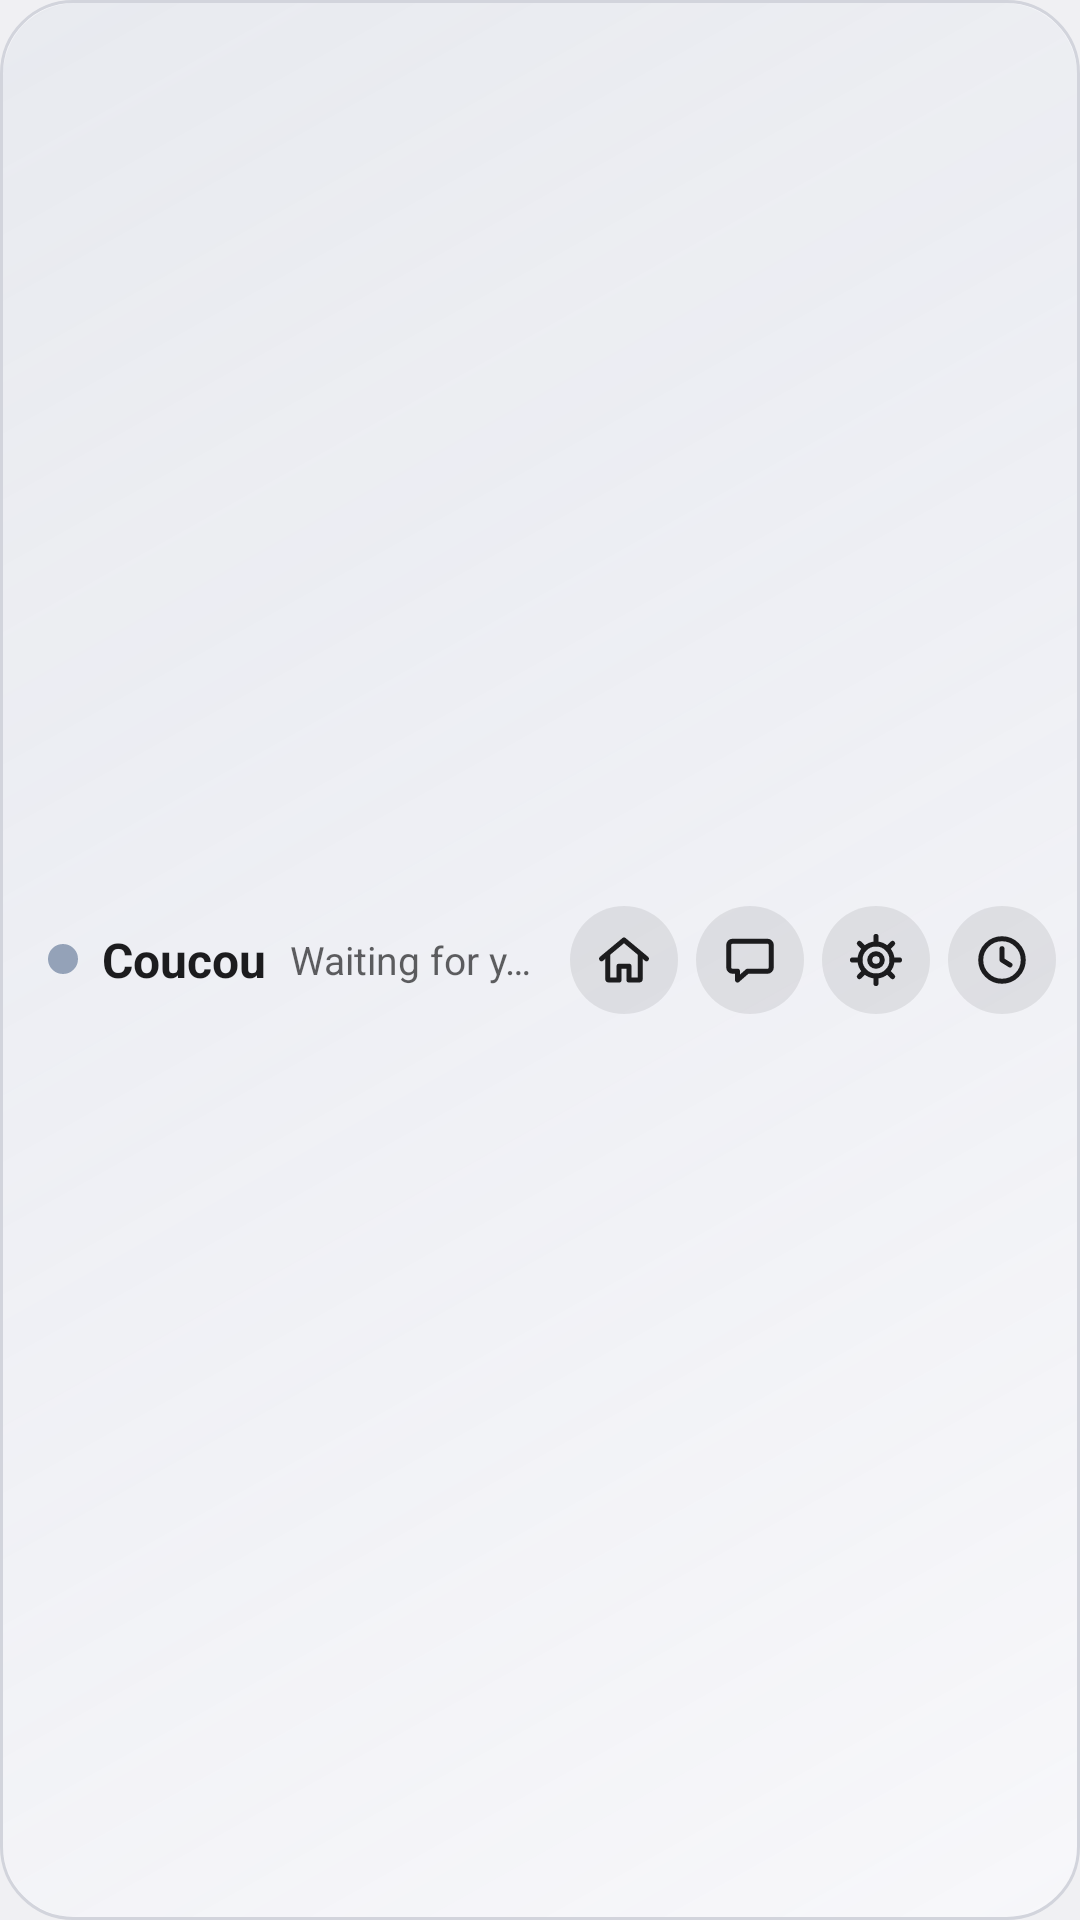

Locate icon controls on the screen. Image size 1080w x 1920h, boxes as (x1, y1, x2, y2).
Open Chat: (696, 906, 804, 1014)
Open recent decisions: (948, 906, 1056, 1014)
Open Settings: (822, 906, 930, 1014)
